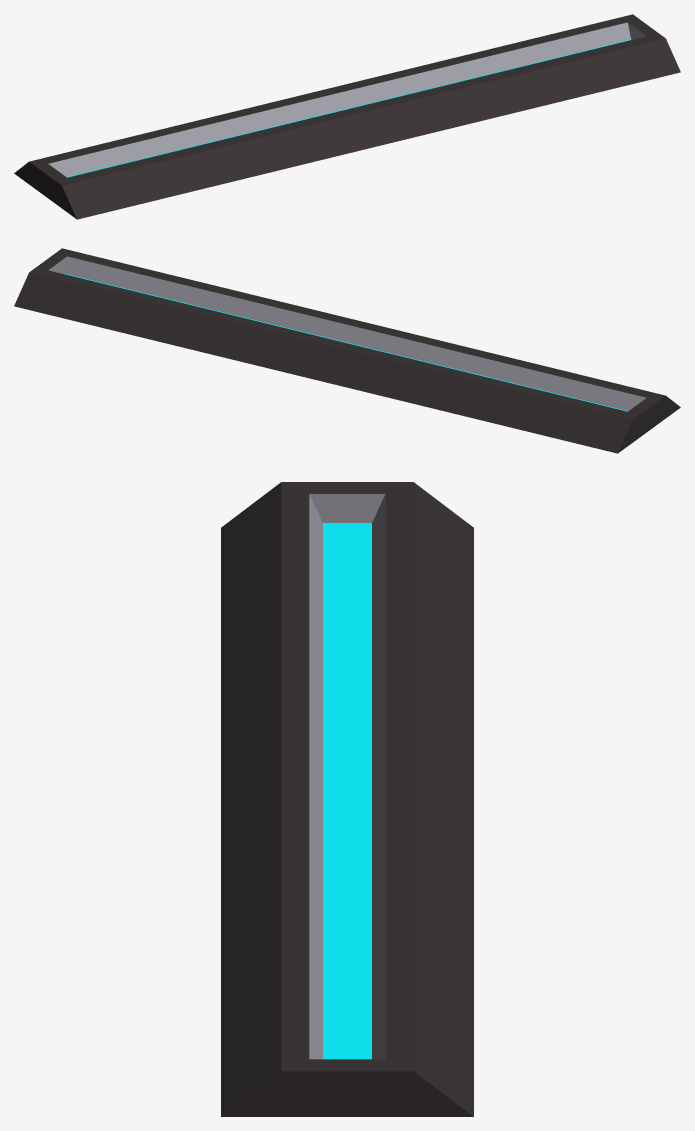
File: sign.lightbar.gltf
3 renders of one model, top to bottom at view 1: azimuth 30°, elevation 25°; view 2: azimuth 150°, elevation 25°; view 3: azimuth 270°, elevation 25°, orthographic. The views are drawn at different scales.
Visible parts, largest first — view 1: Cube.003; view 2: Cube.003; view 3: Cube.003.
Boxes of the visible parts, bbox=[...] form: Cube.003: bbox=[14, 14, 680, 219]; Cube.003: bbox=[14, 248, 680, 453]; Cube.003: bbox=[221, 482, 473, 1116].
Size of the model in its own units: 2 by 0.0723 by 0.3624.
Materials: 2 (2 with a texture image).
